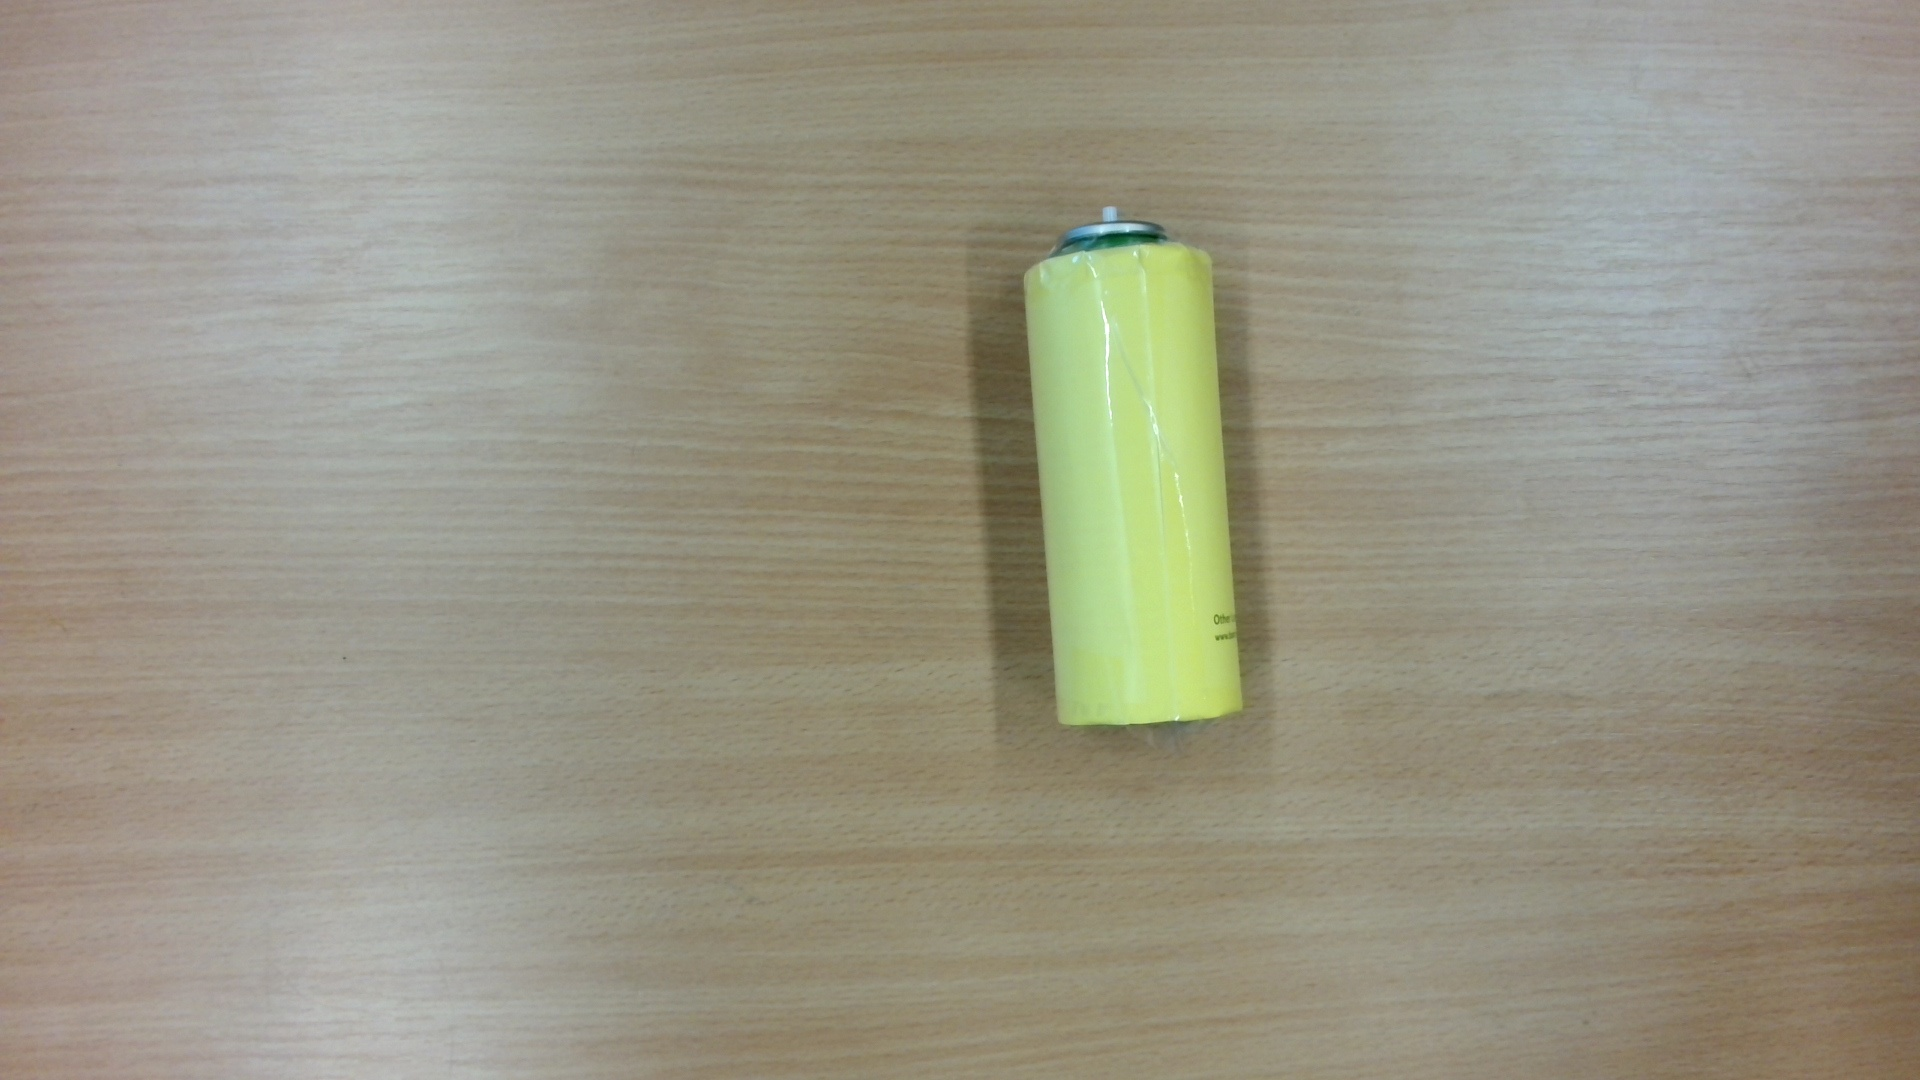Cylinder: (1007, 195, 1261, 738)
